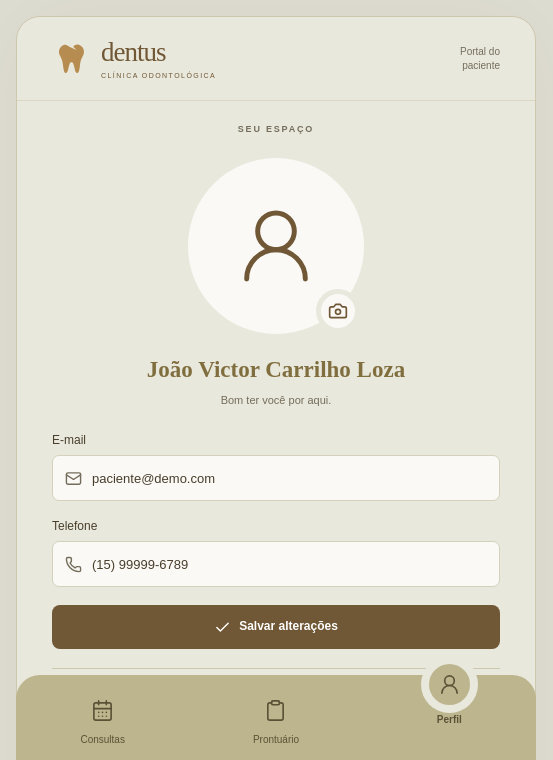
erro no perfil preserva campos e nome não é editável
The image size is (553, 760).
Replace the text in the field labelled "E-mail" with "novo@demo.com" at (276, 478), box 52,455 -> 500,501
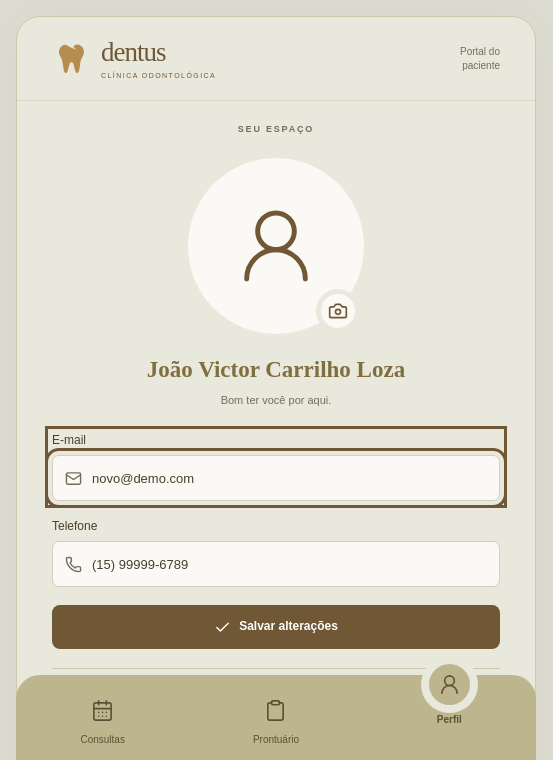
Click the button "Salvar alterações" at (276, 627), box 52,605 -> 500,649
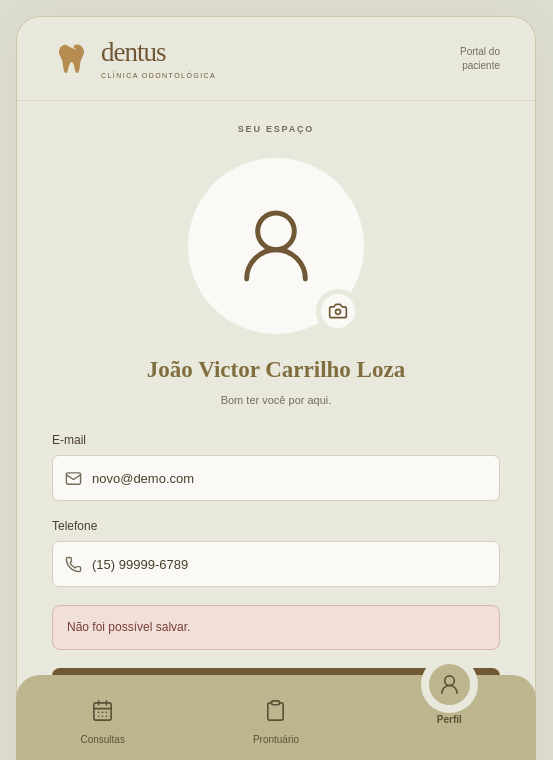
expect the message reads "Não foi possível salvar.": met, box 67,620 -> 190,634
